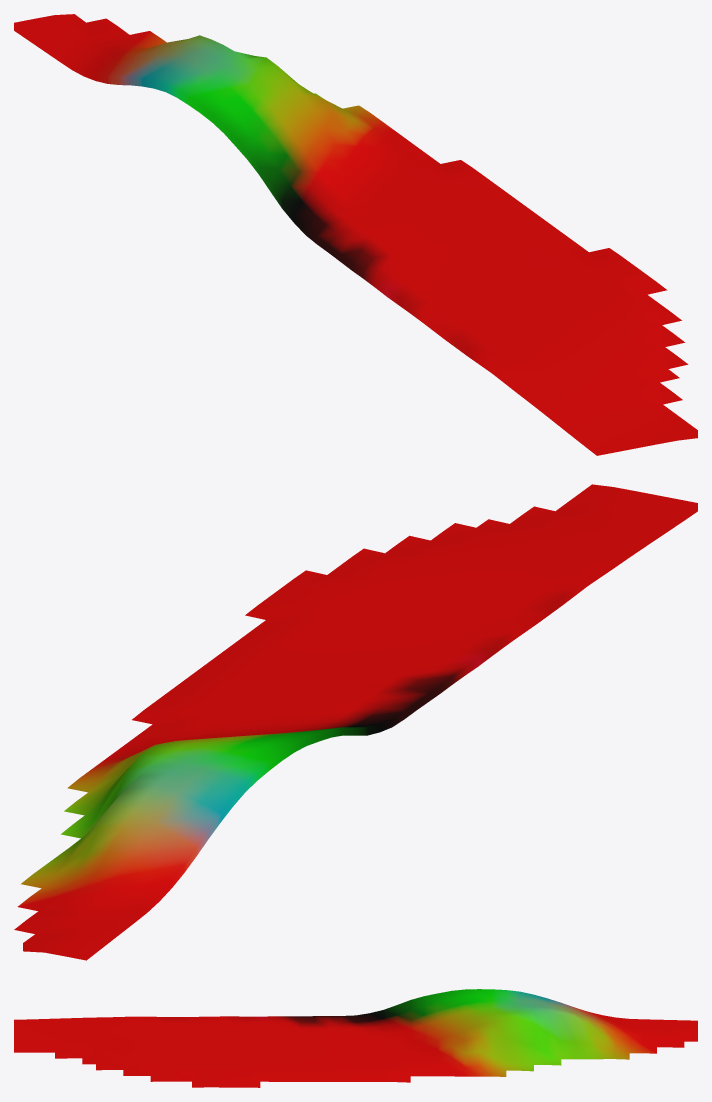
Rendered from coast_14_10.glb.
3 renders of one model, top to bottom at view 1: azimuth 30°, elevation 25°; view 2: azimuth 150°, elevation 25°; view 3: azimuth 270°, elevation 25°, orthographic. The views are drawn at different scales.
Visible parts, largest first — view 1: terrain; view 2: terrain; view 3: terrain.
Boxes of the visible parts, x1,y1,x2,y2 form: terrain: [14, 14, 697, 455]; terrain: [14, 484, 697, 960]; terrain: [14, 989, 697, 1087].
Bounding box in the file's own units: 44 × 12.89 × 200.
